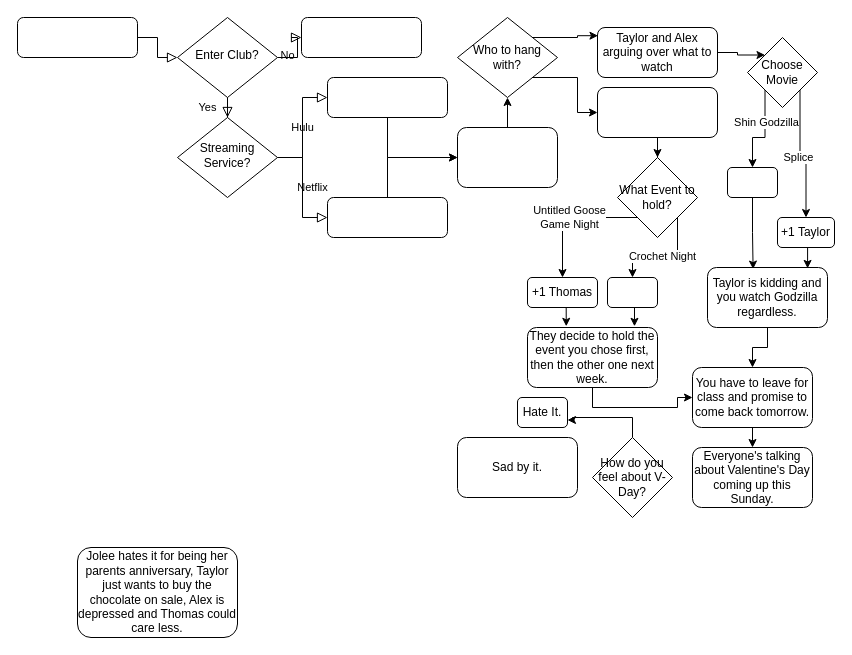
The diagram is 852 pixels wide and 655 high, and some of its shapes have lost their labels. The shapes that lost their labels are listed below. From the top down, each one's box as (x1, y1, x2, y2) in pixels, then its label:
(16, 16, 138, 58): Start
(300, 16, 422, 58): "What If?" End
(326, 76, 448, 118): +1 Thomas +1 Alex
(596, 86, 718, 138): Jolee and Thomas discussing V Day Event
(456, 126, 558, 188): Welcome Spiel + Introductions
(726, 166, 778, 198): +1 Alex
(326, 196, 448, 238): +1 Taylor +1 Jolee
(606, 276, 658, 308): +1 Jolee
